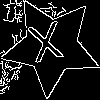X: (26, 21, 68, 72)
